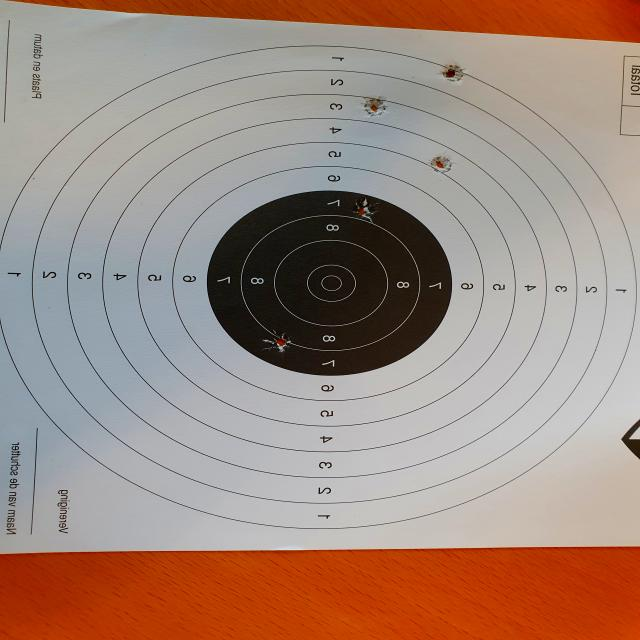1: (438, 62, 466, 85)
3: (360, 93, 390, 119)
5: (429, 153, 454, 174)
7: (349, 197, 382, 223)
8: (260, 328, 294, 356)
Target: (0, 45, 636, 529)
black_contour: (206, 189, 452, 377)
